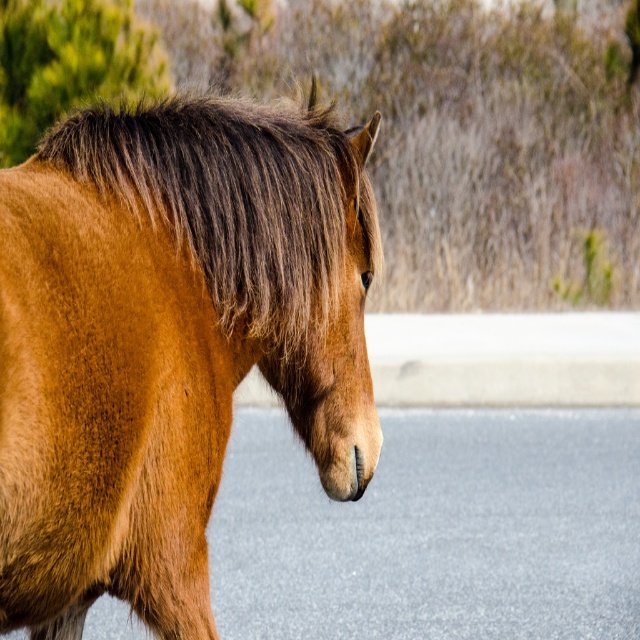Horse: (0, 94, 388, 639)
